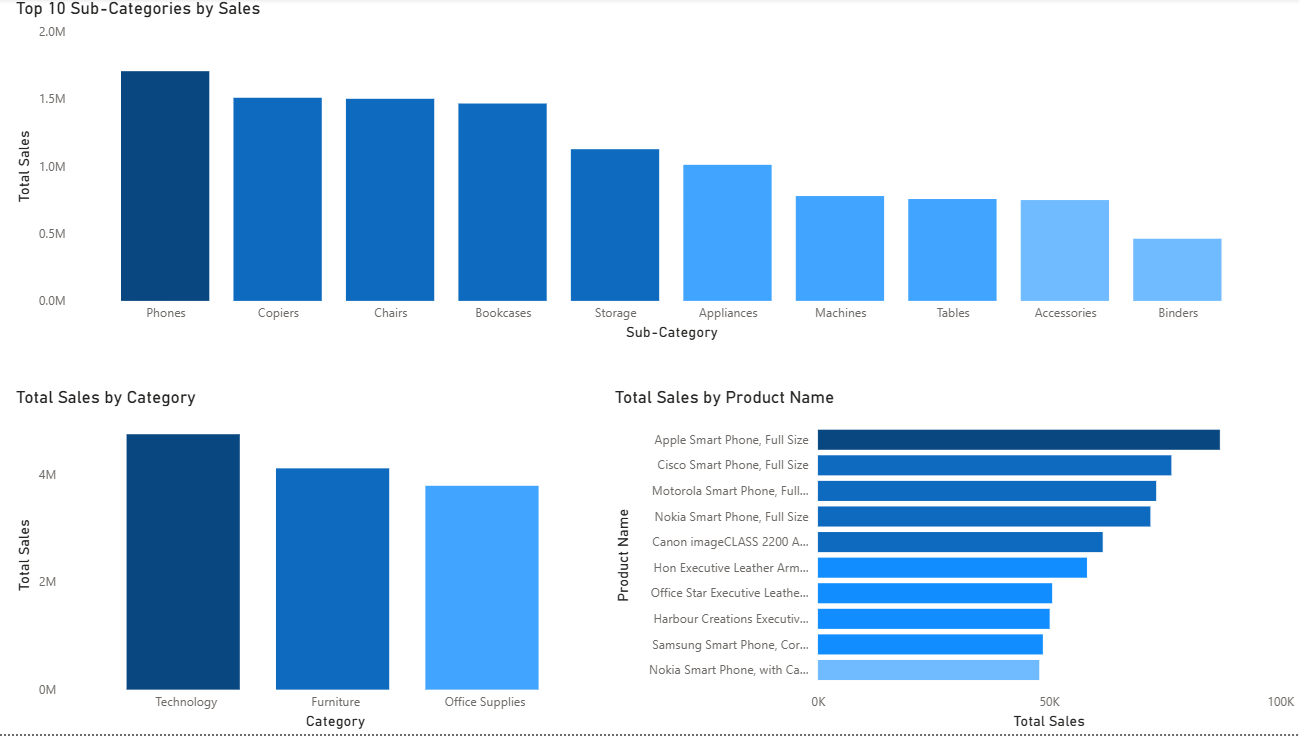

The dashboard page shown, as its layout file describes it:
{"tool":"powerbi","page":{"name":"Product_Analysis","canvas":[1280,720],"ordinal":1},"visuals":[{"type":"barChart","fields":{"Category":["Orders.Product Name"],"Y":["Orders.Total Sales"]},"box":[605.1,380.1,675.1,340.3],"z":0},{"type":"columnChart","title":"Top 10 Sub-Categories by Sales ","fields":{"Category":["Orders.Sub-Category"],"Y":["Orders.Total Sales"]},"box":[19.2,0,1235,340.3],"z":1000},{"type":"lineStackedColumnComboChart","fields":{"Category":["Orders.Category"],"Y":["Orders.Total Sales"]},"box":[19.2,380.1,585.9,340.3],"z":2000}]}

Visuals, with their boxes in screenshot pixels (x1, y1, x2, y2), scaled from the page's 1280x720 canvas onto the 1299x736 screenshot:
barChart - Orders.Product Name x Orders.Total Sales: (left=614, top=389, right=1298, bottom=735)
"Top 10 Sub-Categories by Sales " columnChart: (left=19, top=0, right=1273, bottom=348)
lineStackedColumnComboChart - Orders.Category x Orders.Total Sales: (left=19, top=389, right=614, bottom=735)
